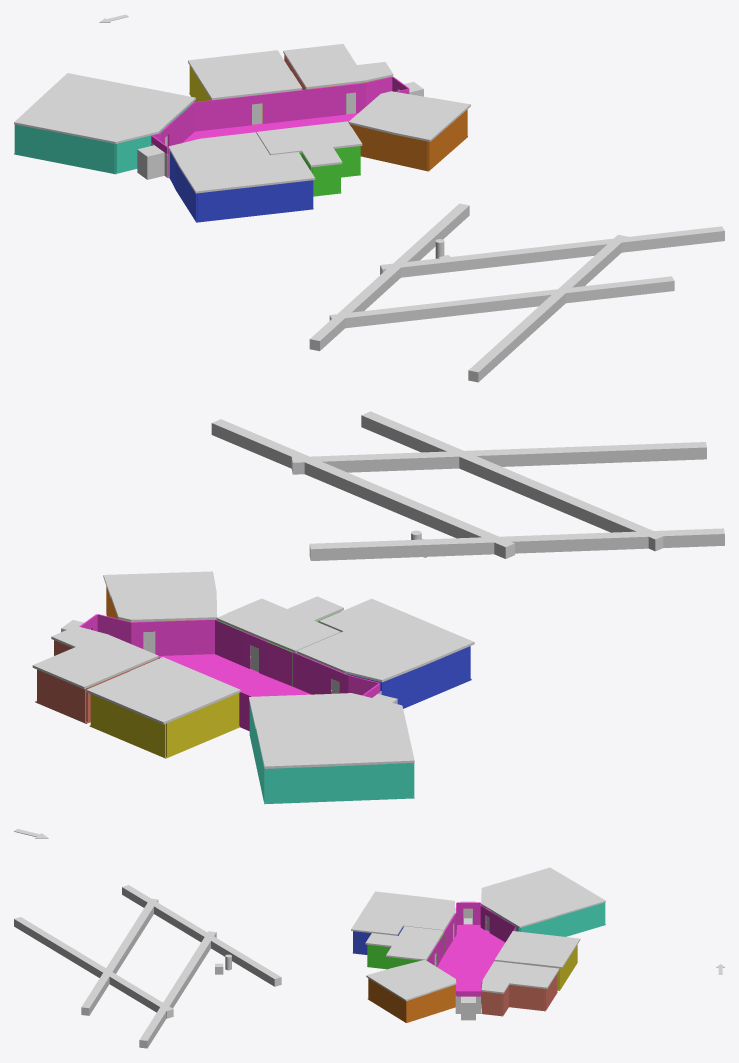
File: Greybox_V3.fbx
The picture shows the model from 3 angles, top to bottom: view 1: azimuth 30°, elevation 25°; view 2: azimuth 150°, elevation 25°; view 3: azimuth 270°, elevation 25°; orthographic projection. The views are drawn at different scales.
Visible parts, largest first — view 1: Cellings R5, 25X3X0.1 Floor, Cellings R6, Cube.003, Cube, Room 6, Room 5, Cellings R3, Cellings R2, Room 2, Cube.002, Cube.001 (+4 smaller); view 2: 25X3X0.1 Floor, Cellings R5, Cellings R6, Cube.001, Cube.002, Room 5, Cube, Cellings R3, Cube.003, Room 3, Cellings R2, Cellings R1 (+3 smaller); view 3: 25X3X0.1 Floor, Cellings R5, Cellings R6, Cellings R3, Cellings R2, Cube.001, Cube.002, Room 2, Cellings R1, Room 1, Cellings R4, Room 5 (+6 smaller).
Boxes of the visible parts, bbox=[...] form: Cellings R5: bbox=[14, 73, 195, 143]; 25X3X0.1 Floor: bbox=[151, 77, 409, 178]; Cellings R6: bbox=[168, 132, 315, 193]; Cube.003: bbox=[329, 276, 674, 328]; Cube: bbox=[380, 226, 724, 277]; Room 6: bbox=[169, 151, 313, 222]; Room 5: bbox=[14, 101, 194, 174]; Cellings R3: bbox=[188, 50, 302, 99]; Cellings R2: bbox=[348, 91, 470, 141]; Room 2: bbox=[350, 109, 467, 171]; Cube.002: bbox=[468, 234, 627, 382]; Cube.001: bbox=[309, 203, 469, 351]; 25X3X0.1 Floor: bbox=[79, 614, 380, 731]; Cellings R5: bbox=[249, 693, 414, 768]; Cellings R6: bbox=[296, 598, 474, 682]; Cube.001: bbox=[309, 528, 724, 560]; Cube.002: bbox=[291, 442, 706, 474]; Room 5: bbox=[249, 704, 414, 804]; Cube: bbox=[211, 419, 514, 558]; Cellings R3: bbox=[86, 657, 240, 724]; Cube.003: bbox=[361, 411, 663, 551]; Room 3: bbox=[89, 693, 239, 758]; Cellings R2: bbox=[103, 571, 217, 621]; Cellings R1: bbox=[32, 626, 158, 689]; 25X3X0.1 Floor: bbox=[427, 902, 516, 1013]; Cellings R5: bbox=[481, 867, 605, 928]; Cellings R6: bbox=[351, 891, 454, 935]; Cellings R3: bbox=[494, 931, 580, 968]; Cellings R2: bbox=[366, 960, 456, 1001]; Cube.001: bbox=[122, 885, 281, 986]; Cube.002: bbox=[14, 917, 173, 1018]; Room 2: bbox=[368, 978, 456, 1022]; Cellings R1: bbox=[481, 961, 559, 993]; Room 1: bbox=[481, 968, 557, 1016]; Cellings R4: bbox=[365, 926, 443, 960]; Room 5: bbox=[482, 902, 605, 936].
Size of the model in its own units: 9089 by 725 by 16888.
